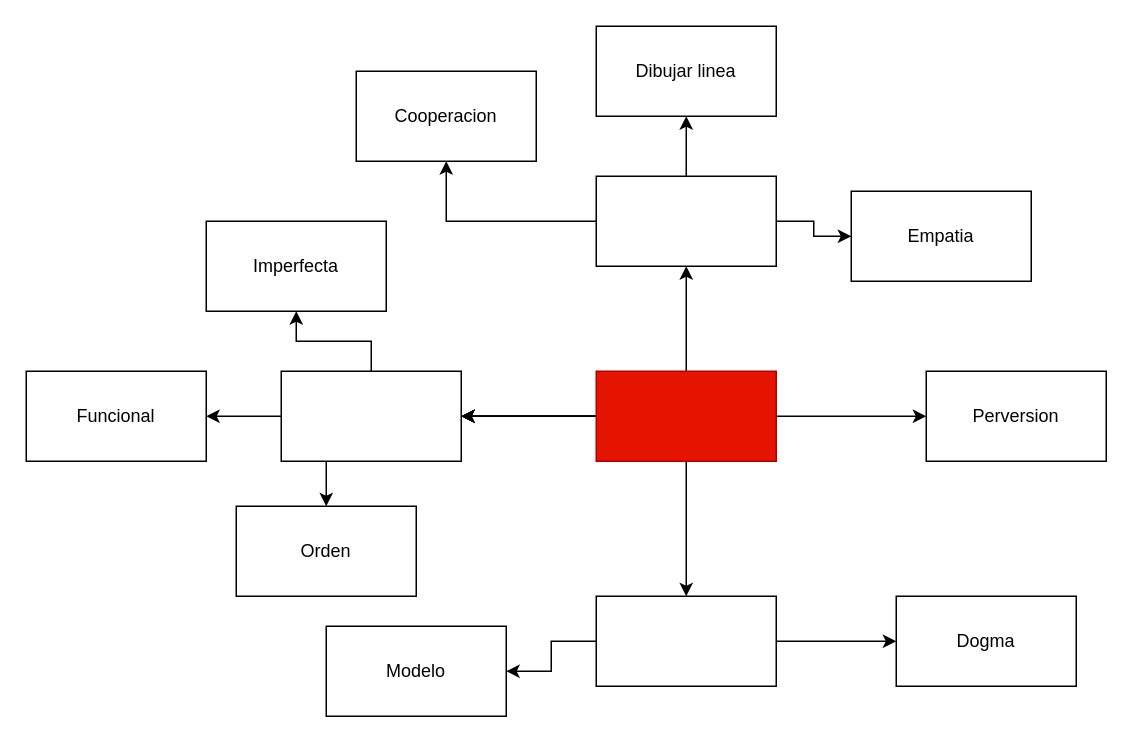
Some shapes in this 1133 by 743 pixel diagram are drawn without their labels. Here are the shapes that lost their labels. From the top down, the centre of each, then its label:
At (685,220): "Moralidad".
At (370,415): "Naturaleza".
At (685,415): "GIP".
At (685,640): "Ideologia".
